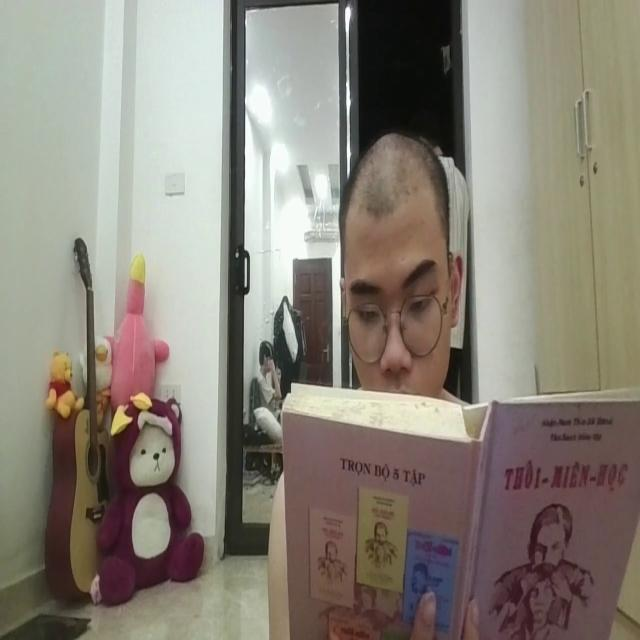book: (266, 355, 640, 640)
extra_person: (426, 126, 472, 356), (256, 336, 295, 422)
student: (338, 120, 471, 405)
